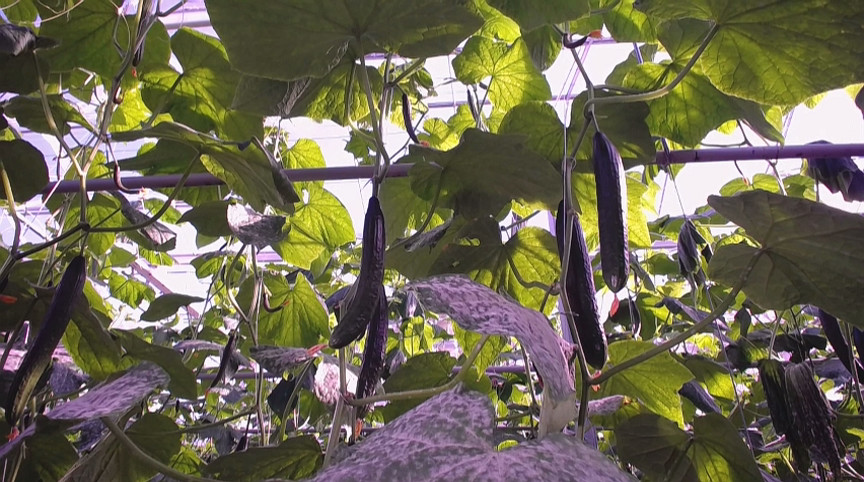cucumber: (5, 255, 88, 427), (556, 200, 608, 369), (329, 197, 385, 350), (594, 129, 630, 292), (356, 286, 388, 416), (818, 308, 864, 382)
